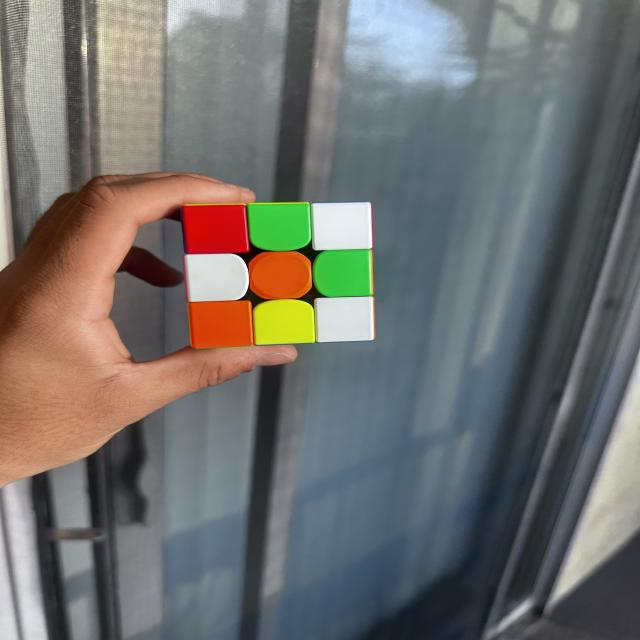sticker: (179, 202, 252, 257), (182, 251, 252, 305), (308, 200, 374, 253), (186, 299, 254, 350), (246, 202, 313, 253), (248, 250, 313, 302), (251, 299, 317, 346), (313, 295, 376, 344), (312, 249, 373, 299)
